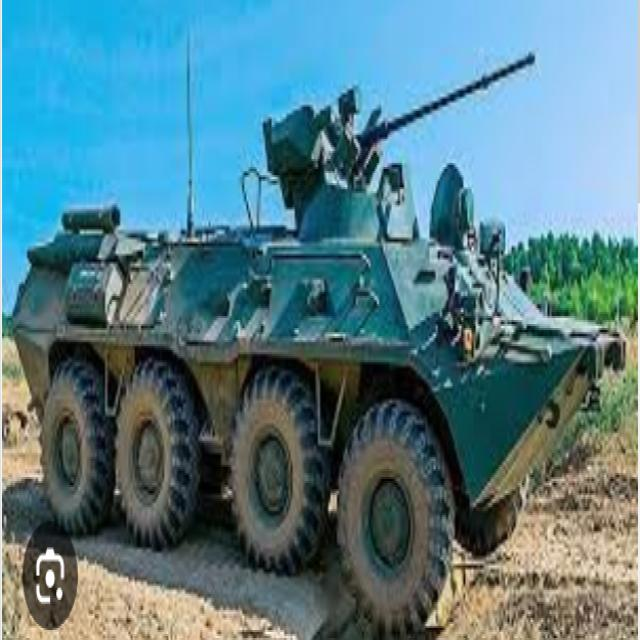MIL_APC: (34, 92, 616, 600)
